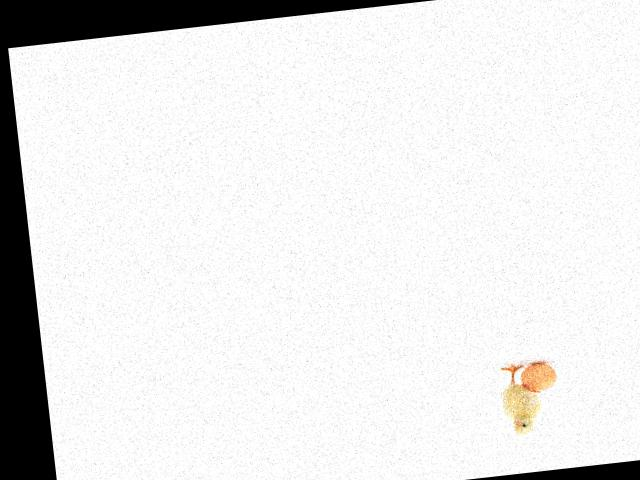egg: (518, 361, 558, 393)
